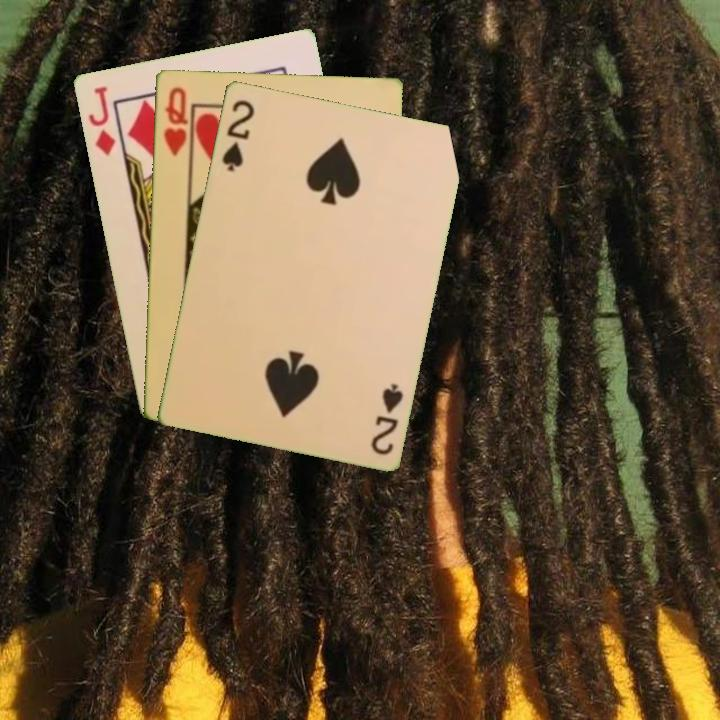2s: (367, 379, 406, 458), (218, 96, 257, 174)
Jd: (84, 82, 118, 158)
Qh: (160, 82, 191, 159)
